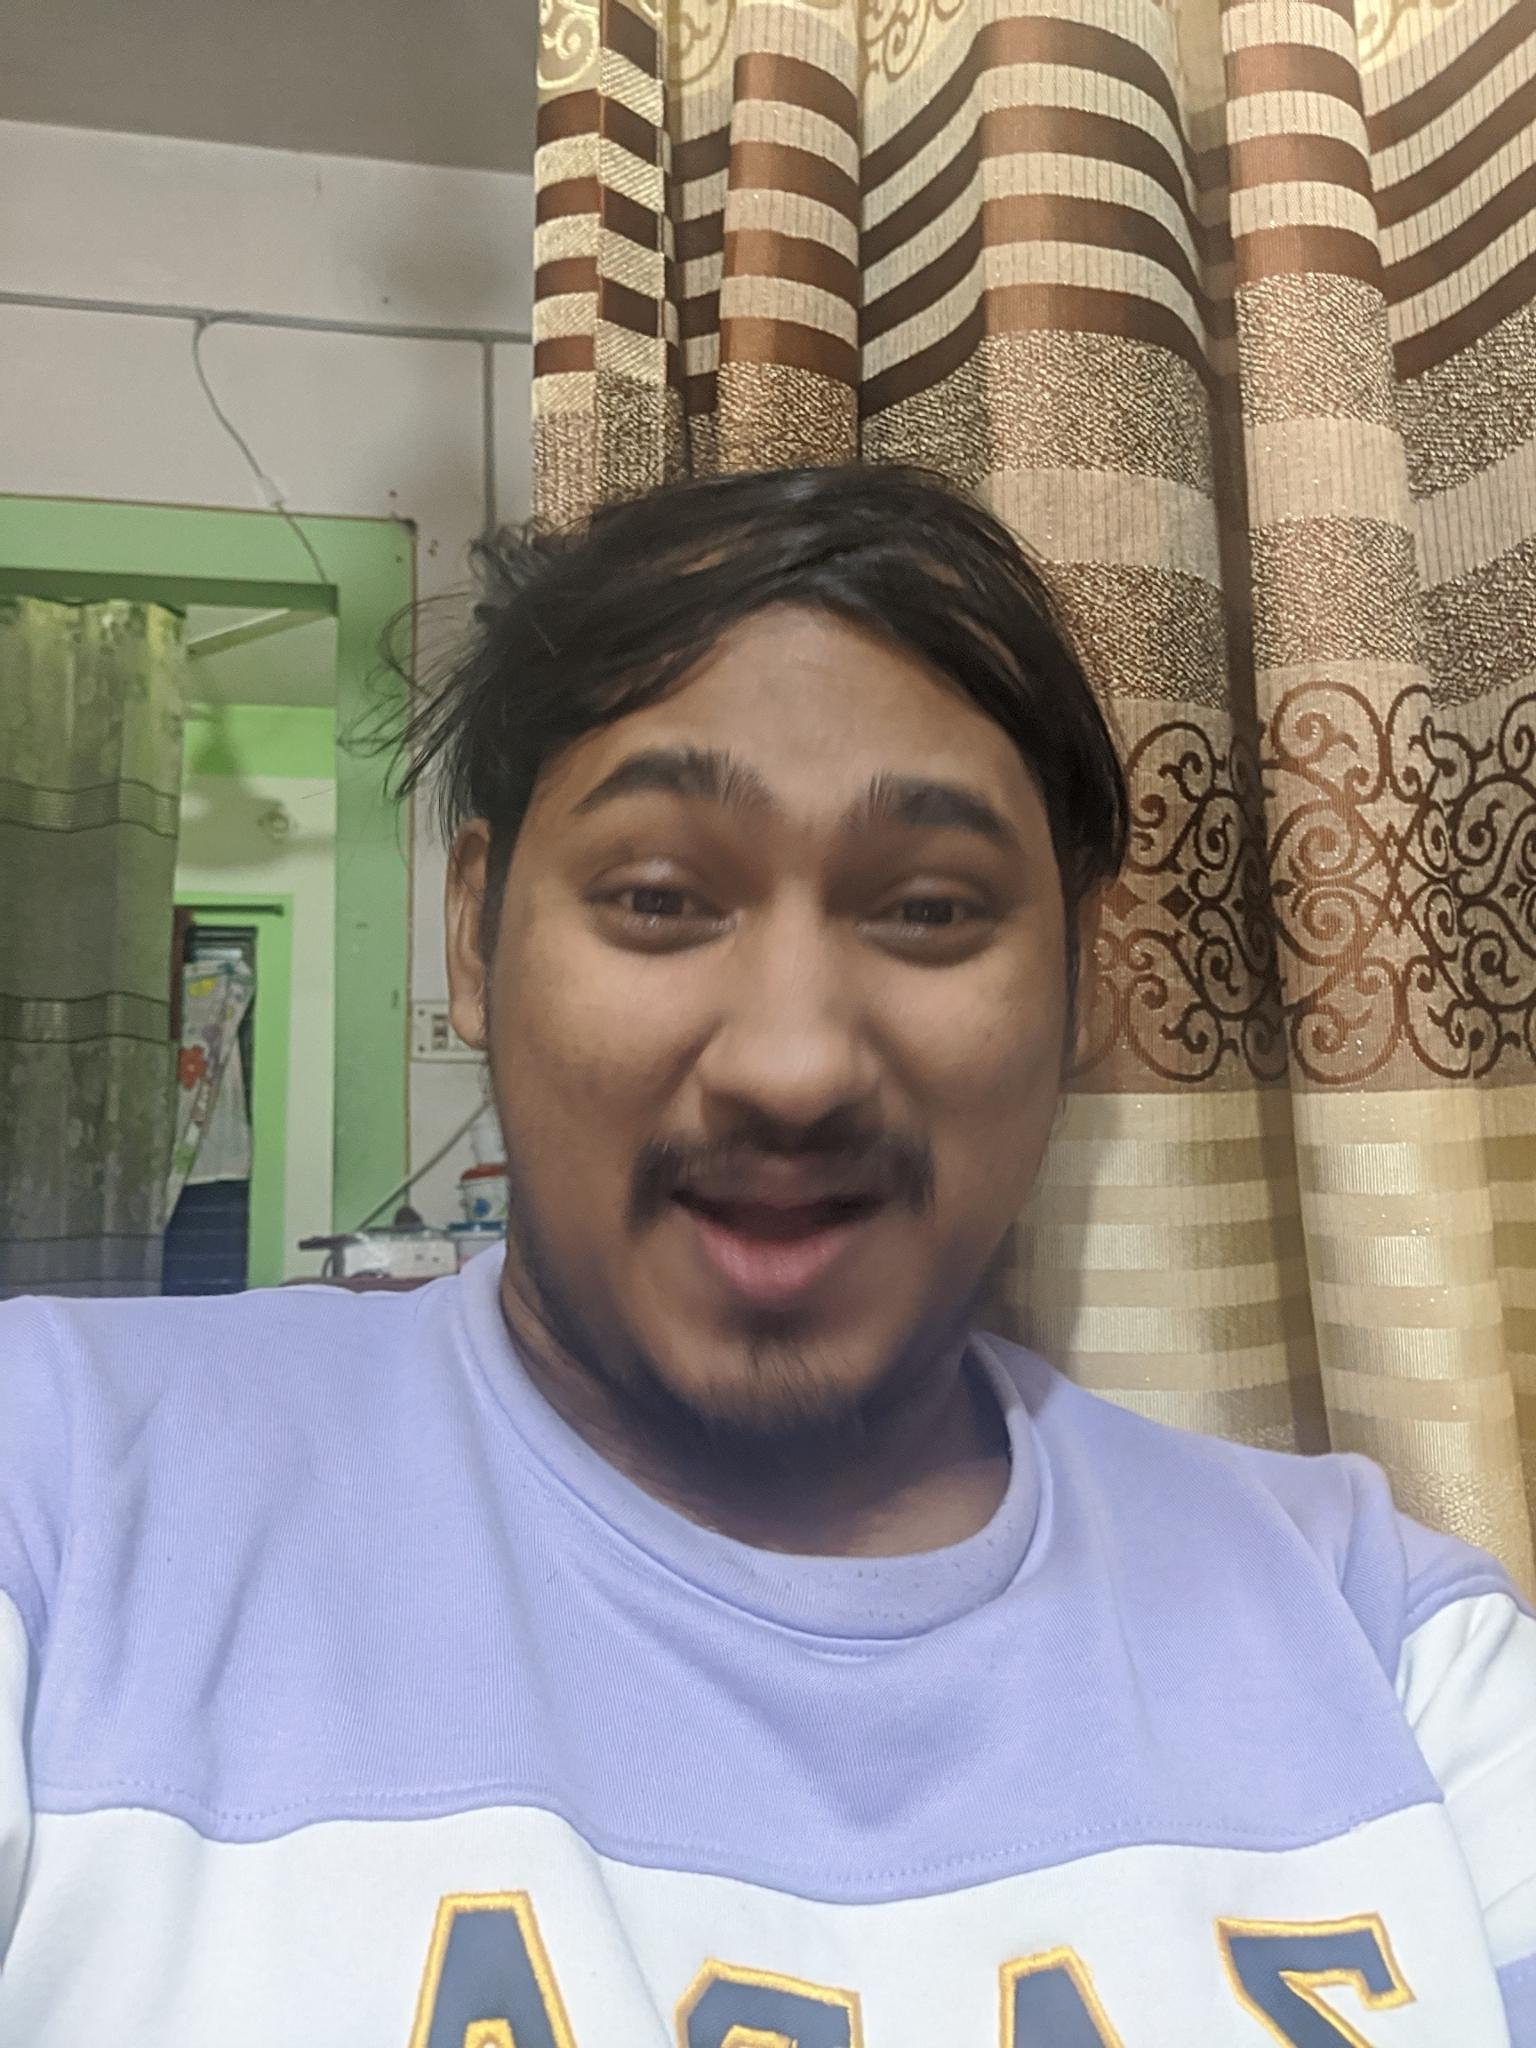Surprise: (458, 668, 1055, 1429)
